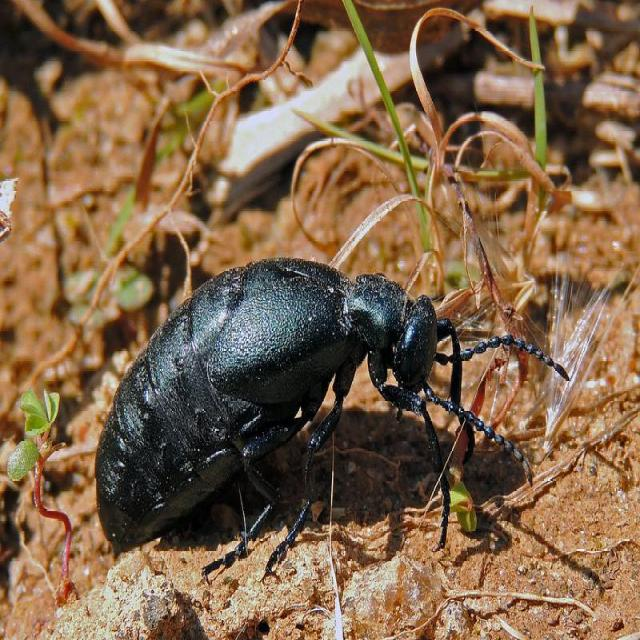BlisterBeetle-Adult-: (77, 251, 568, 562)
